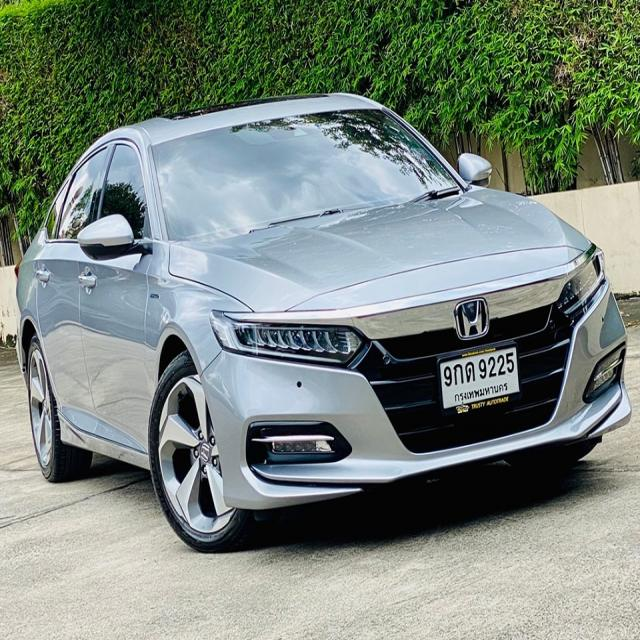car: (12, 90, 633, 555)
license_plate: (435, 339, 523, 419)
plate_number: (443, 351, 515, 387)
province: (454, 382, 508, 404)
